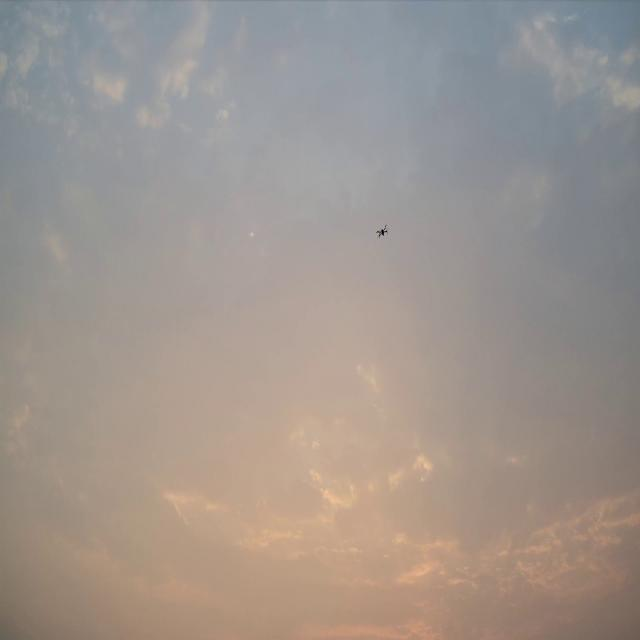drone: (376, 224, 389, 238)
